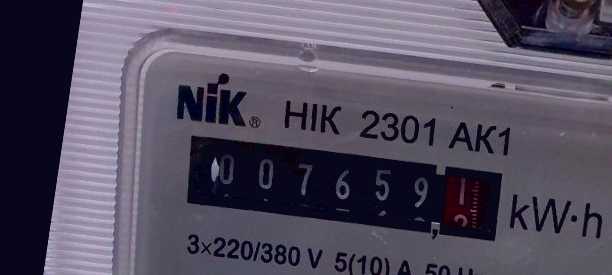0: (212, 148, 239, 190), (251, 154, 279, 194)
1: (451, 172, 472, 210)
5: (369, 165, 394, 204)
6: (329, 164, 356, 203)
7: (289, 158, 315, 199)
9: (406, 172, 432, 212)
screen: (171, 121, 514, 257)
